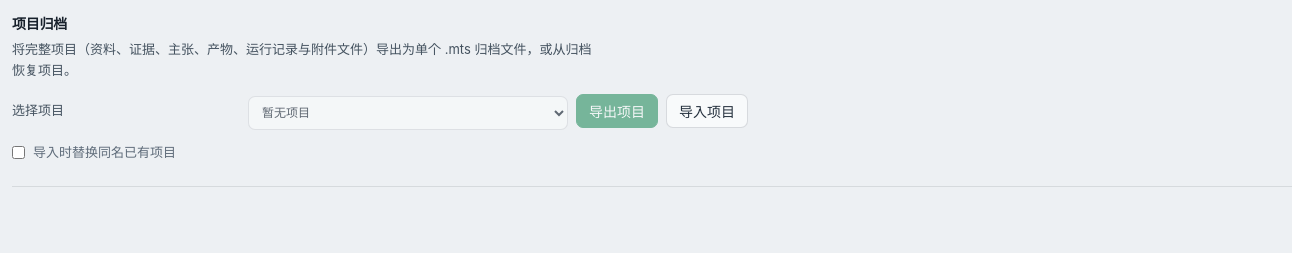
Test: SettingsProjectArchiveSection › imports a picked archive with the overwrite toggle
Click the checkbox with test id "project-overwrite-toggle". click: (18, 152)
box: [12,146,25,159]
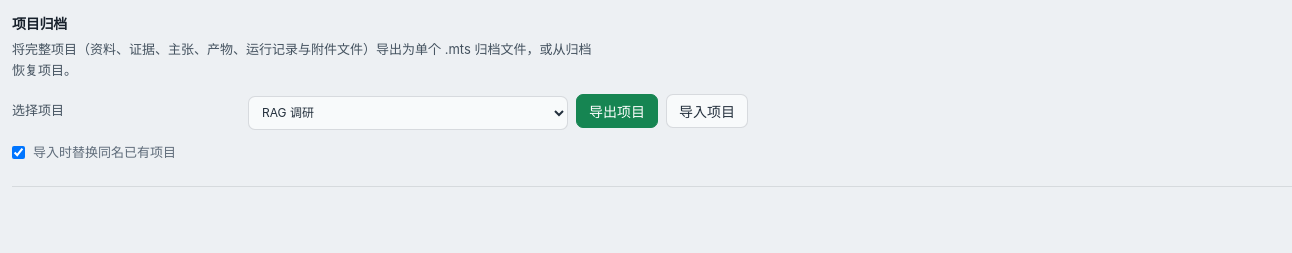
Click the button with test id "project-import-button". click: (707, 111)
box: [666,94,748,128]
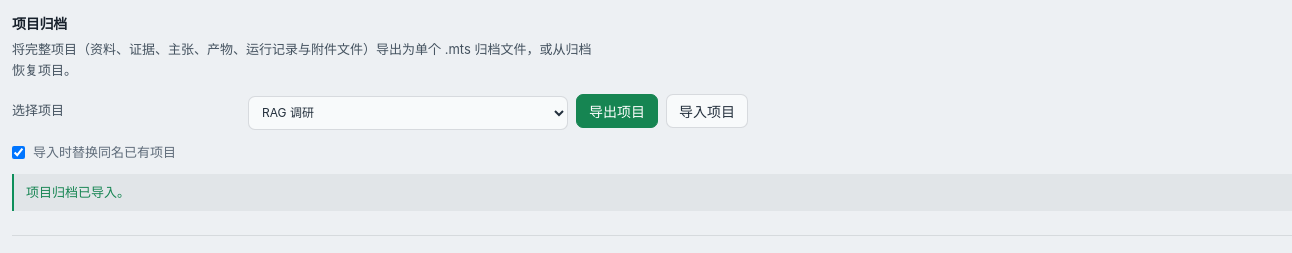
Check: the text "项目归档已导入。" is shown, box [12,174,1291,211]
